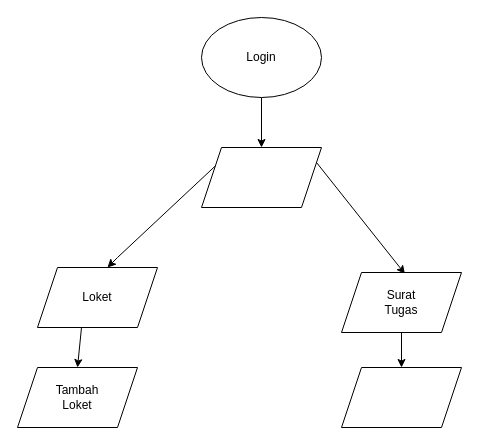
This 479x445 diagram has some shape labels left out. The shapes that lost their labels are listed below. From the top down, each one's box as (x1, y1, x2, y2) in pixels, then its label:
(200, 146, 322, 208): Dasboard
(340, 366, 462, 428): Lihat atau cari data pemohon
